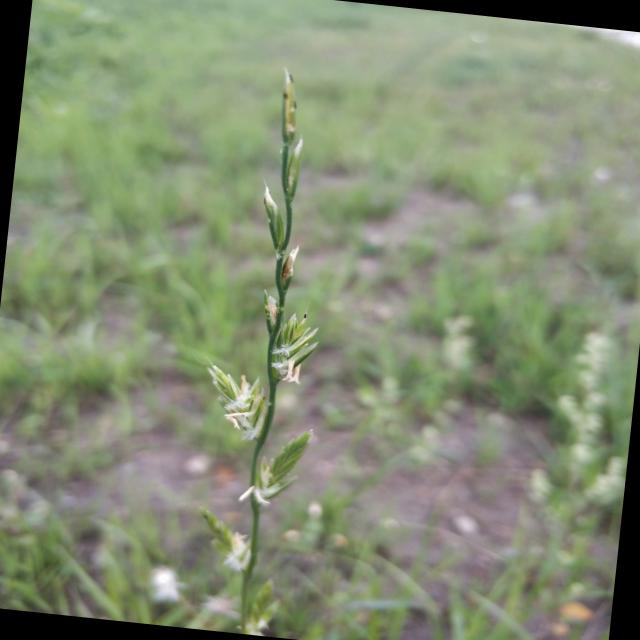Lolium: (173, 60, 354, 637)
